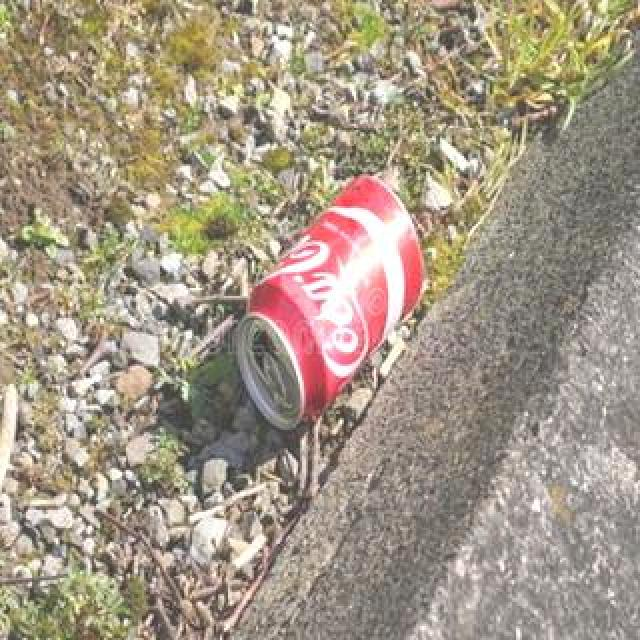Can: (223, 166, 433, 442)
